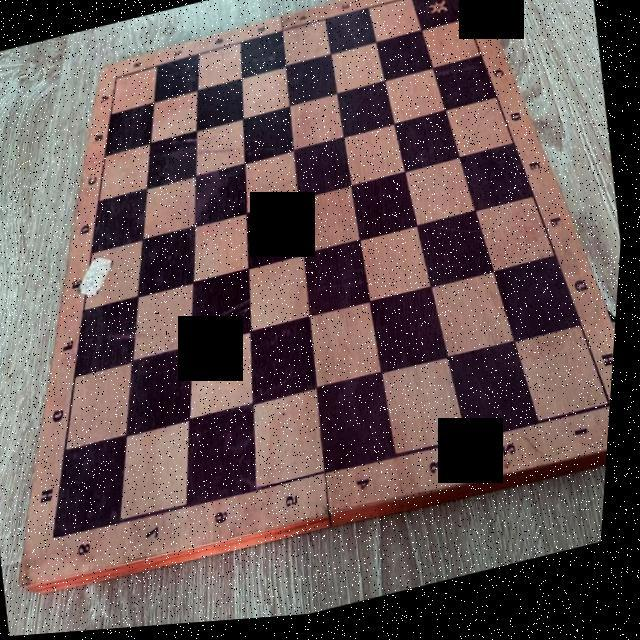chess-table-corners: (600, 398, 618, 431), (109, 69, 125, 89), (54, 527, 68, 549)
